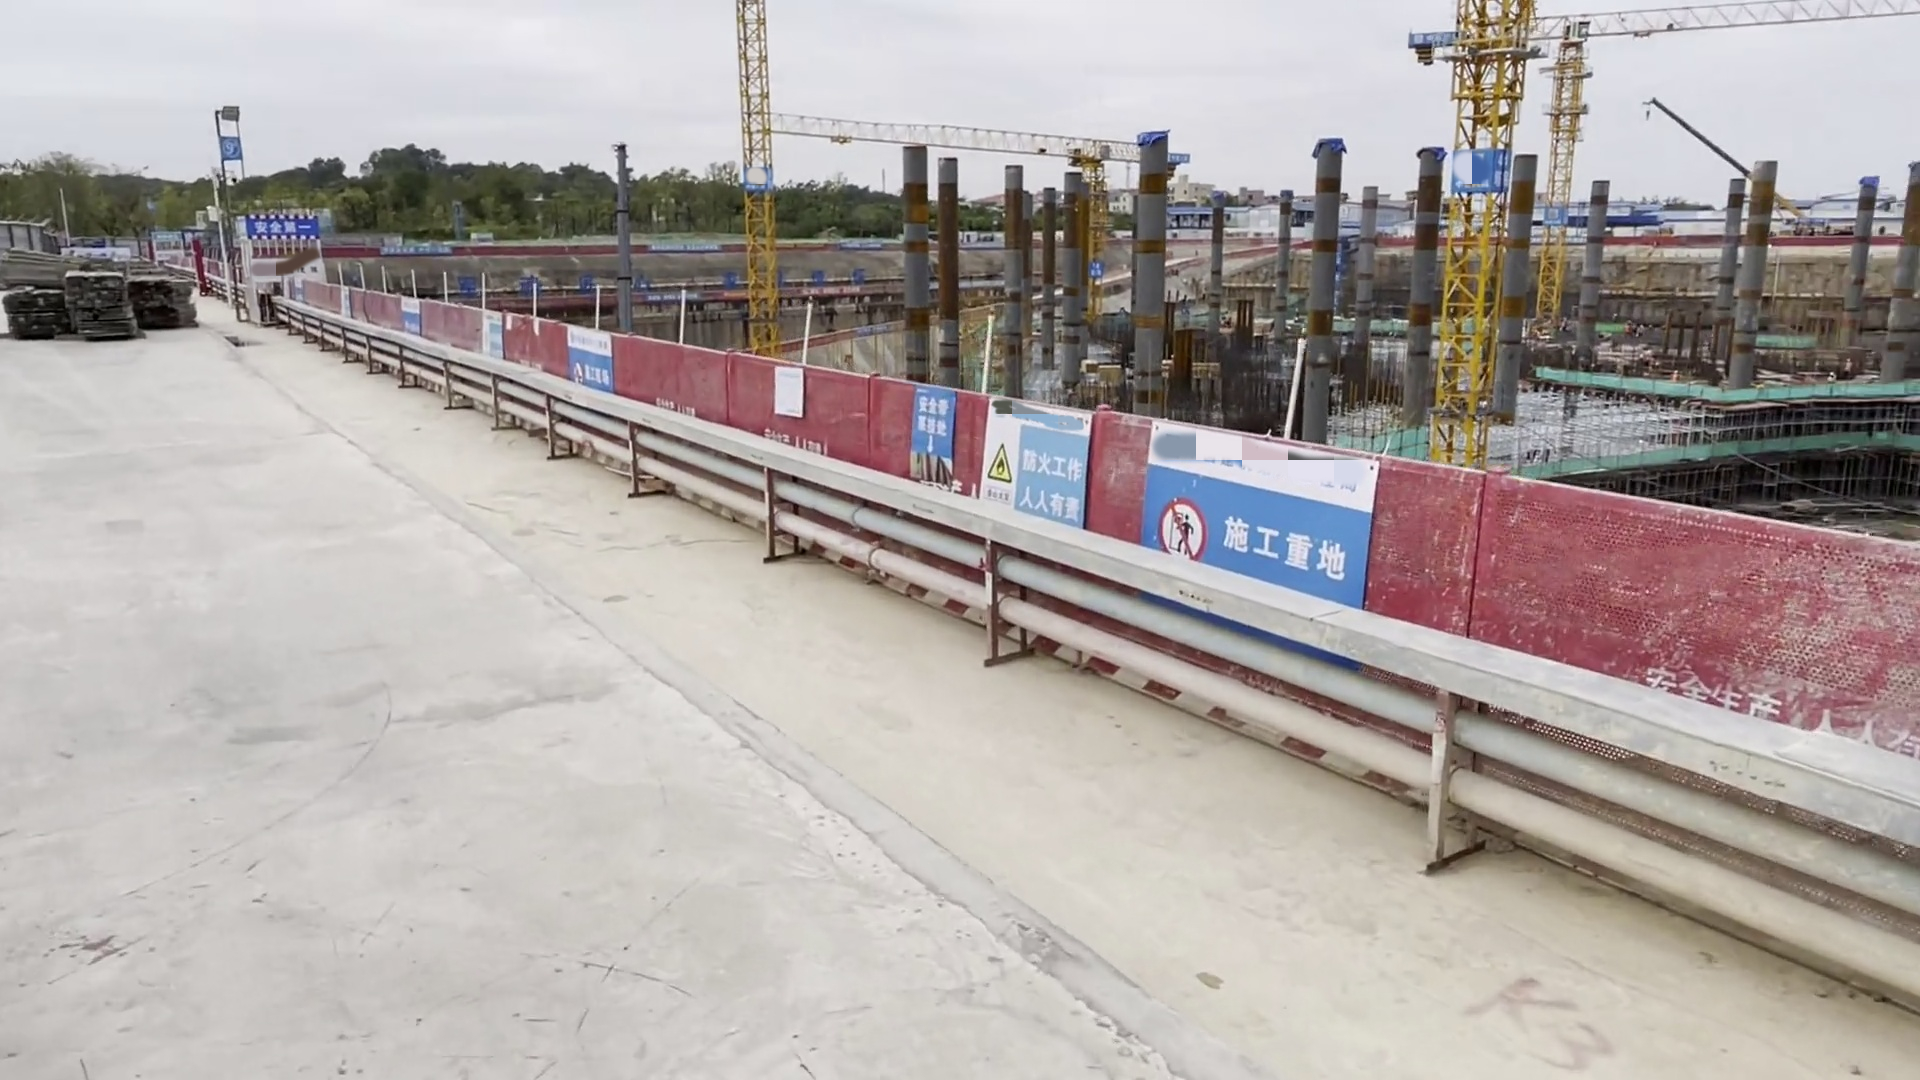fence: (1083, 413, 1920, 762), (614, 337, 1073, 534), (315, 286, 604, 386)
person: (1828, 371, 1837, 390), (1845, 358, 1851, 377), (1674, 369, 1679, 380)
slogan: (1141, 422, 1371, 603), (977, 398, 1096, 528), (910, 386, 956, 458), (567, 326, 617, 383), (228, 213, 309, 234), (393, 298, 431, 332), (1474, 150, 1508, 187), (373, 245, 455, 256), (641, 292, 699, 302), (834, 239, 885, 251), (801, 283, 862, 293), (647, 245, 719, 253), (721, 288, 746, 301), (1545, 207, 1562, 224)
